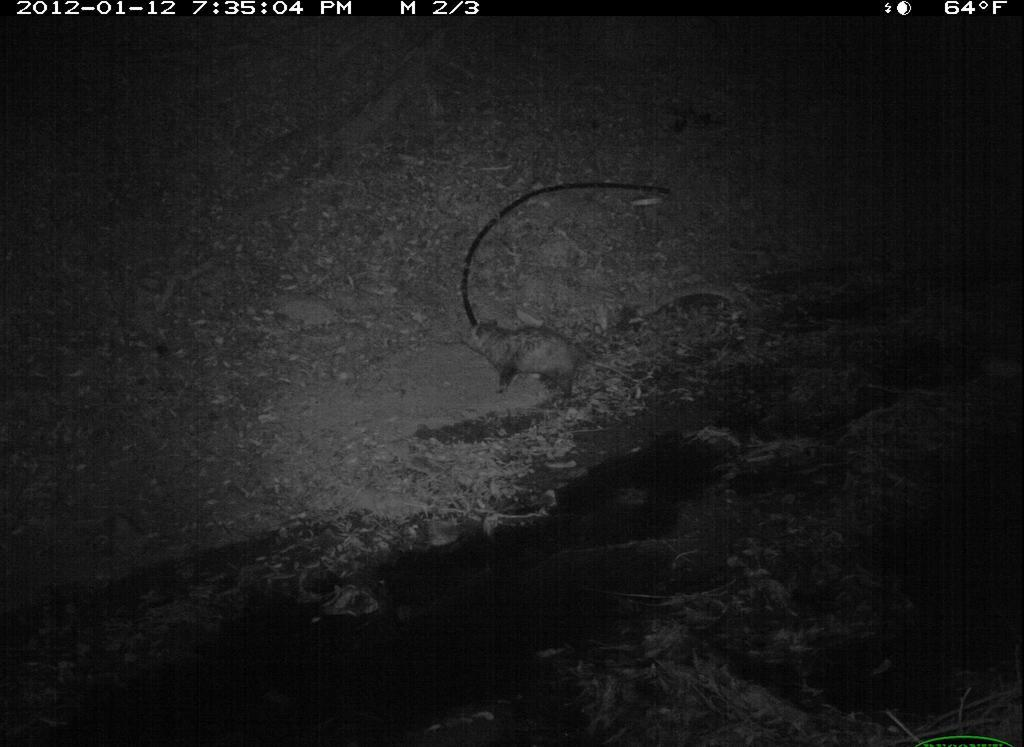opossum: (456, 314, 658, 409)
